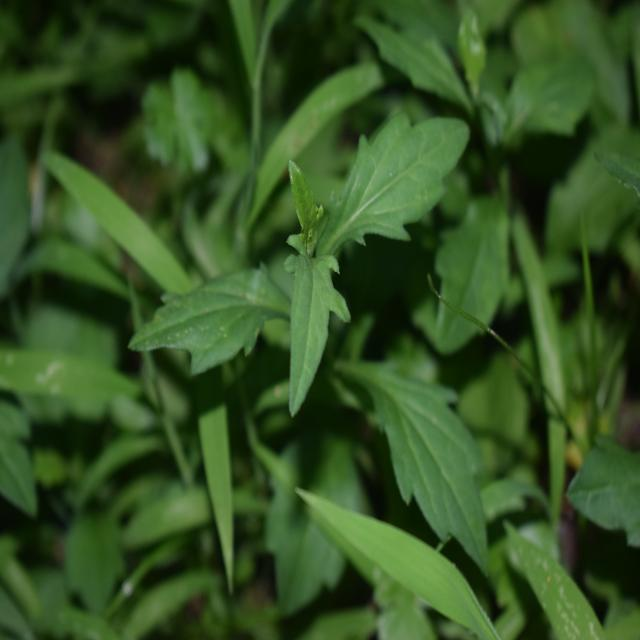Indian aster: (180, 107, 482, 558)
